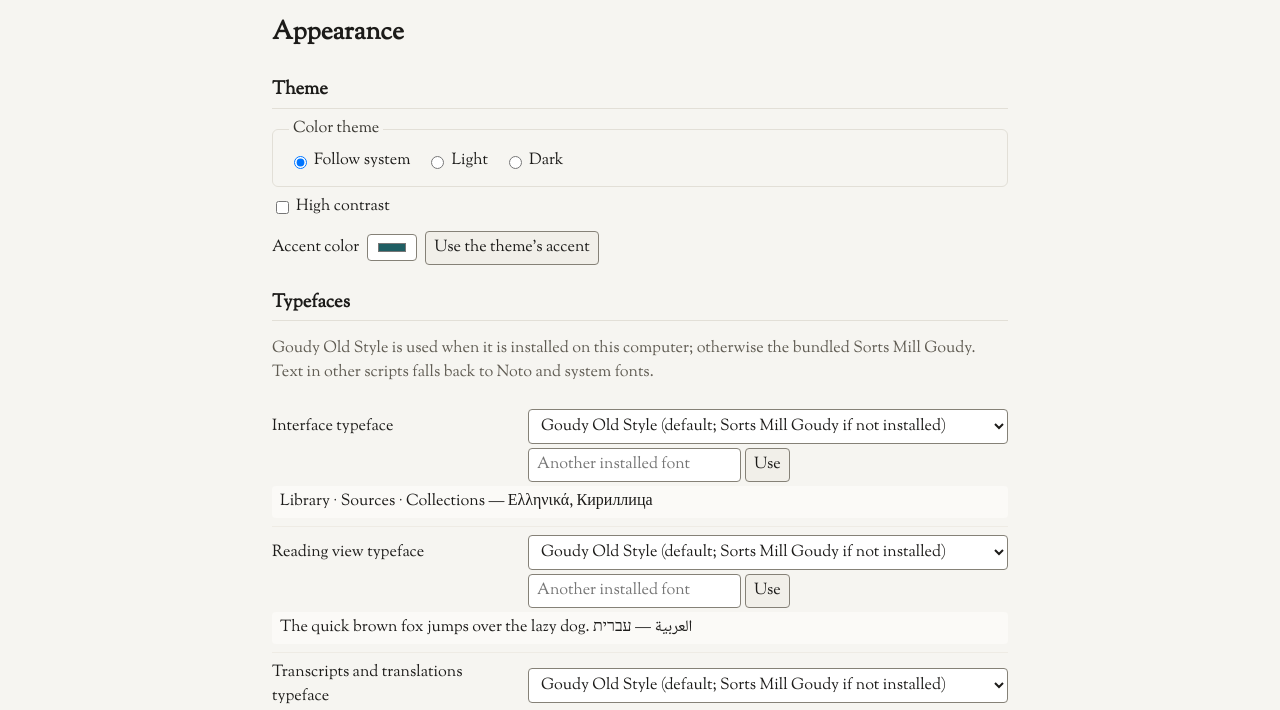
it: the appearance settings cannot be read (Task 68) › the reset asks first, says what is lost and what is kept; focus goes in, stays, and comes back on cancel
The image size is (1280, 710).
Click the radio button labelled "Dark". click: (516, 162)
box: [509, 156, 522, 169]
(page scrolled)
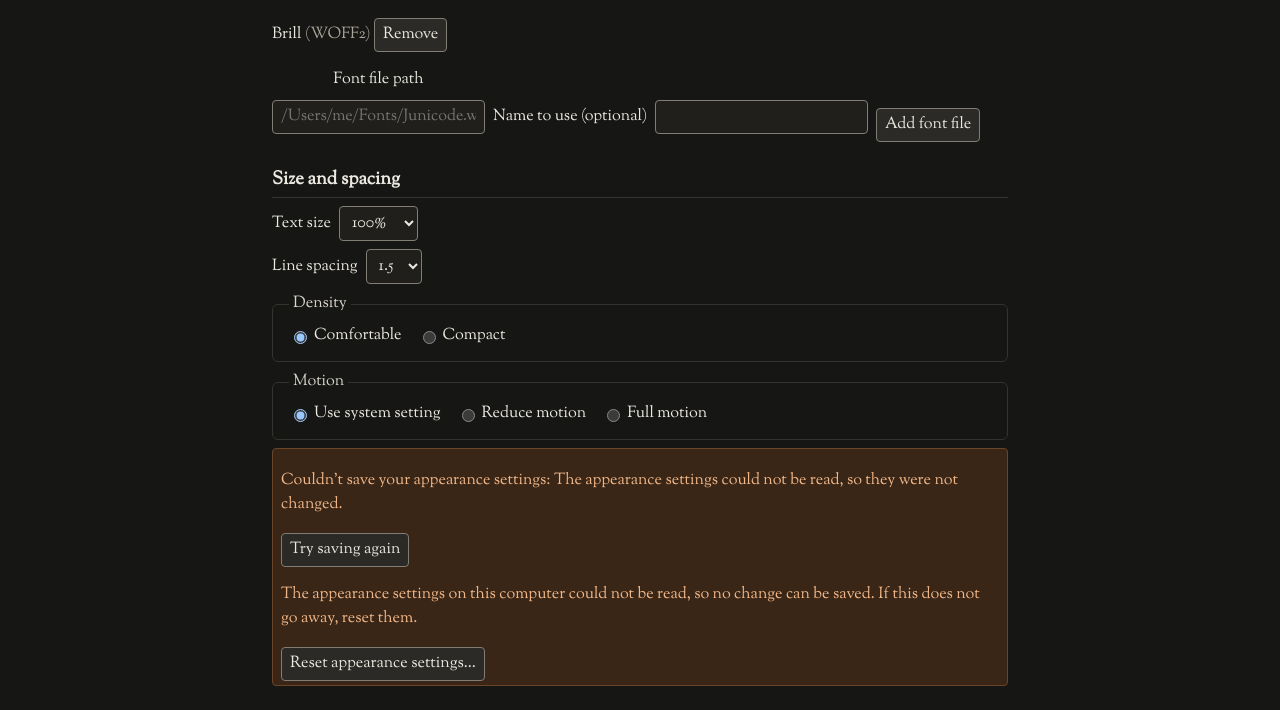
Check: the message named "Reset appearance settings…" shows "could not be read", box [281, 469, 958, 516]
Click the button "Reset appearance settings…". click: (383, 664)
box: [281, 647, 485, 681]
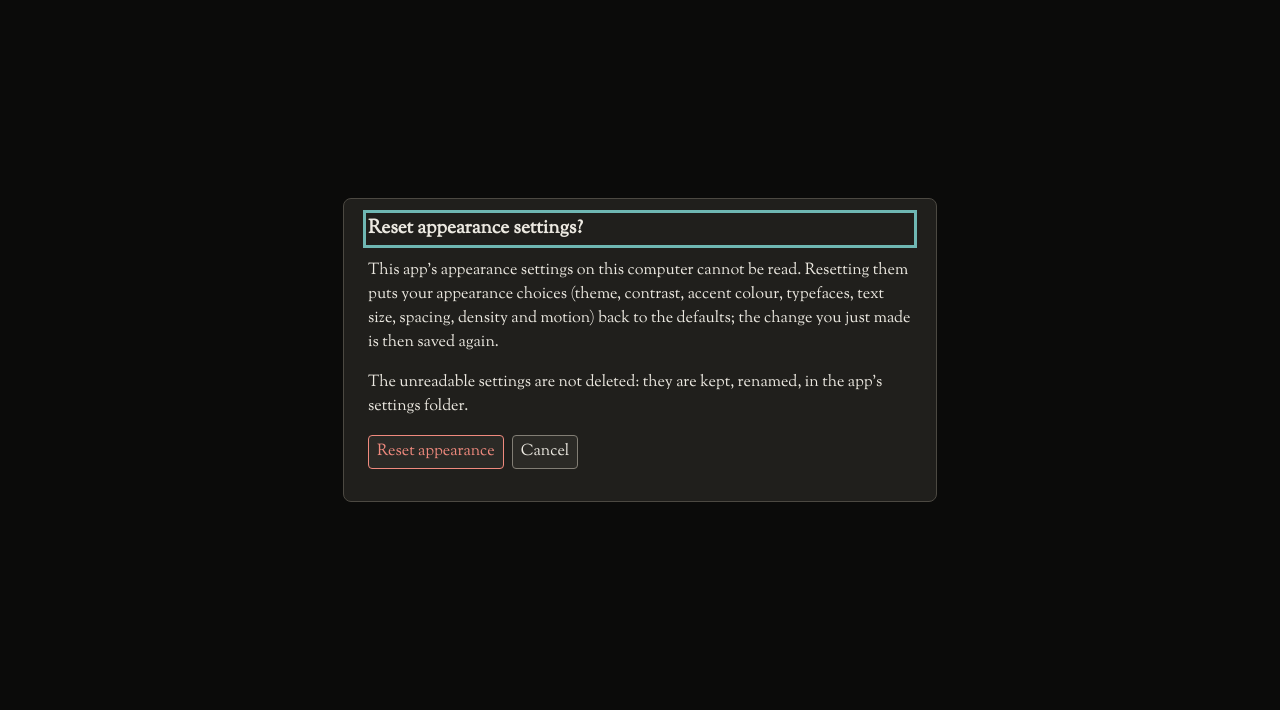
Check: the dialog "Reset appearance settings?" shows "back to the defaults", box [368, 259, 910, 354]
Check: the dialog "Reset appearance settings?" shows "kept, renamed", box [368, 371, 882, 418]
Press Tab
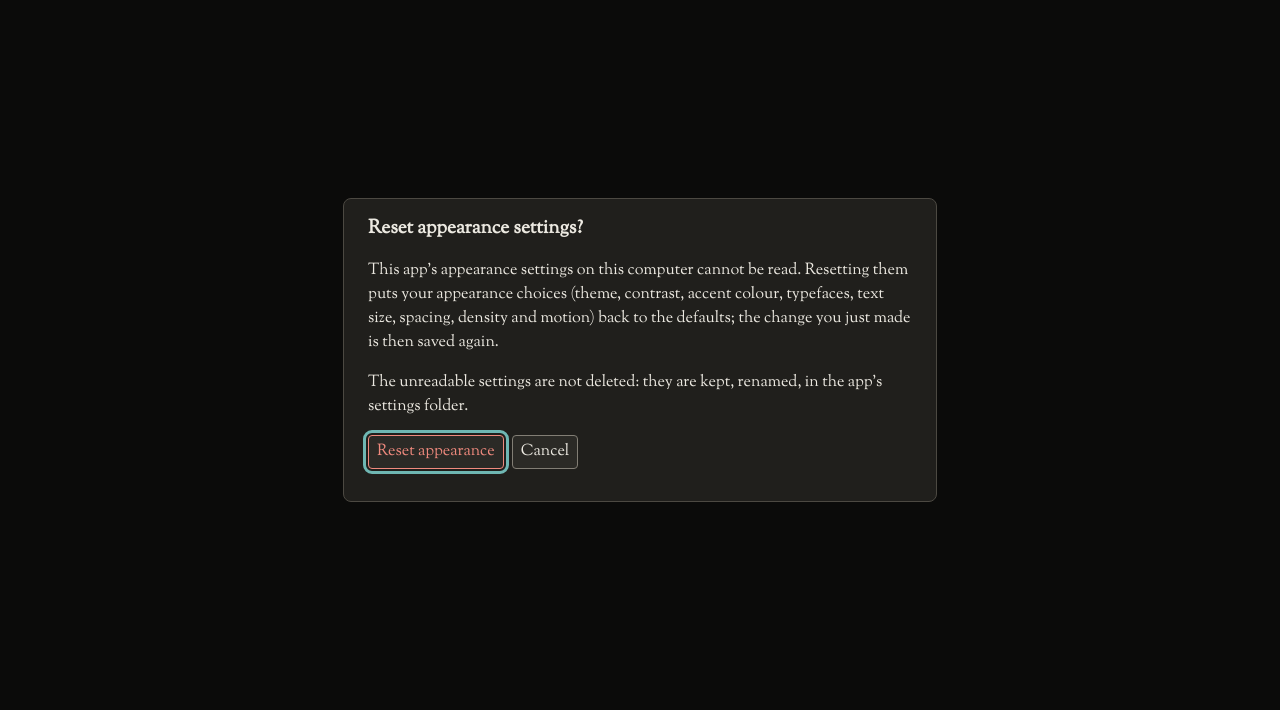
Press Shift+Tab
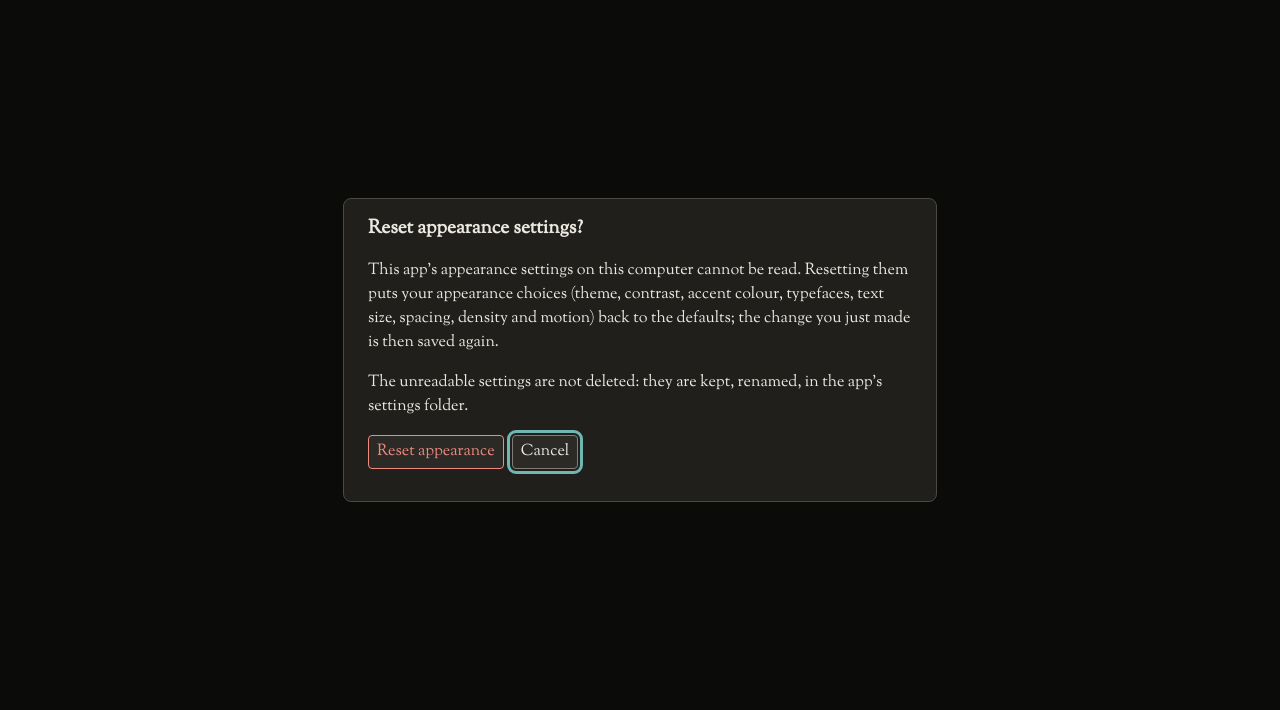
Press Escape
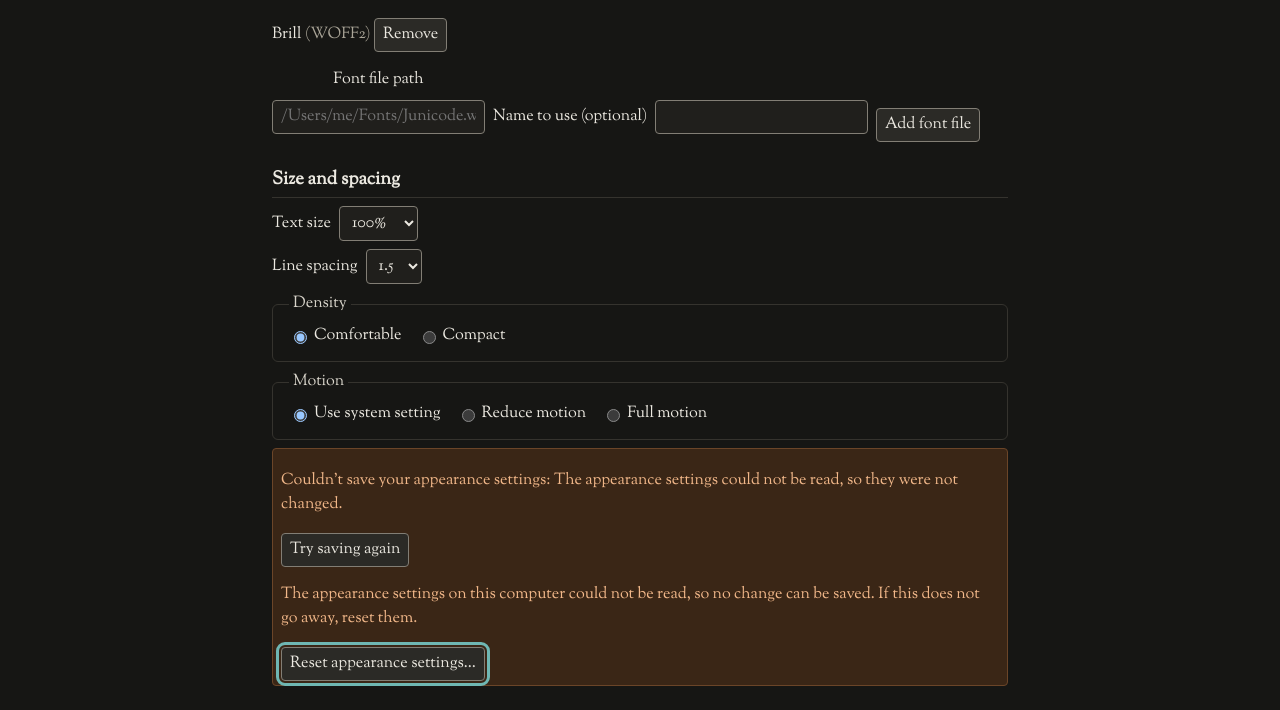
Check: the dialog is gone
